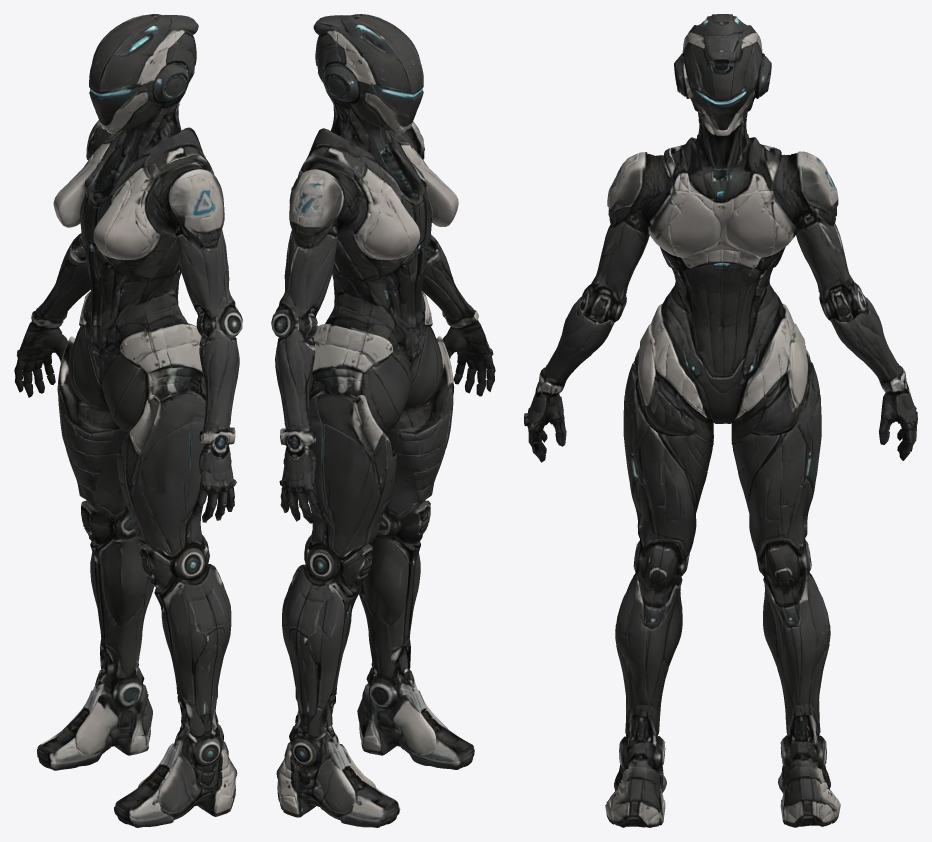
The model's file is nx-vector.glb.
The picture shows the model from 3 angles, left to right: view 1: azimuth 30°, elevation 25°; view 2: azimuth 150°, elevation 25°; view 3: azimuth 270°, elevation 25°; orthographic projection. The views are drawn at different scales.
Parts seen in each view (by area): view 1: tripo_node_4cfa2810-05a5-4029-97d7-5258f247b1cc; view 2: tripo_node_4cfa2810-05a5-4029-97d7-5258f247b1cc; view 3: tripo_node_4cfa2810-05a5-4029-97d7-5258f247b1cc.
Part boxes in pixels (x1=…): tripo_node_4cfa2810-05a5-4029-97d7-5258f247b1cc: x1=14, y1=14, x2=242, y2=827; tripo_node_4cfa2810-05a5-4029-97d7-5258f247b1cc: x1=271, y1=14, x2=495, y2=827; tripo_node_4cfa2810-05a5-4029-97d7-5258f247b1cc: x1=524, y1=14, x2=917, y2=827.
Size of the model in its own units: 0.1638 by 0.9802 by 0.4419.
1 material, 1 textured.
